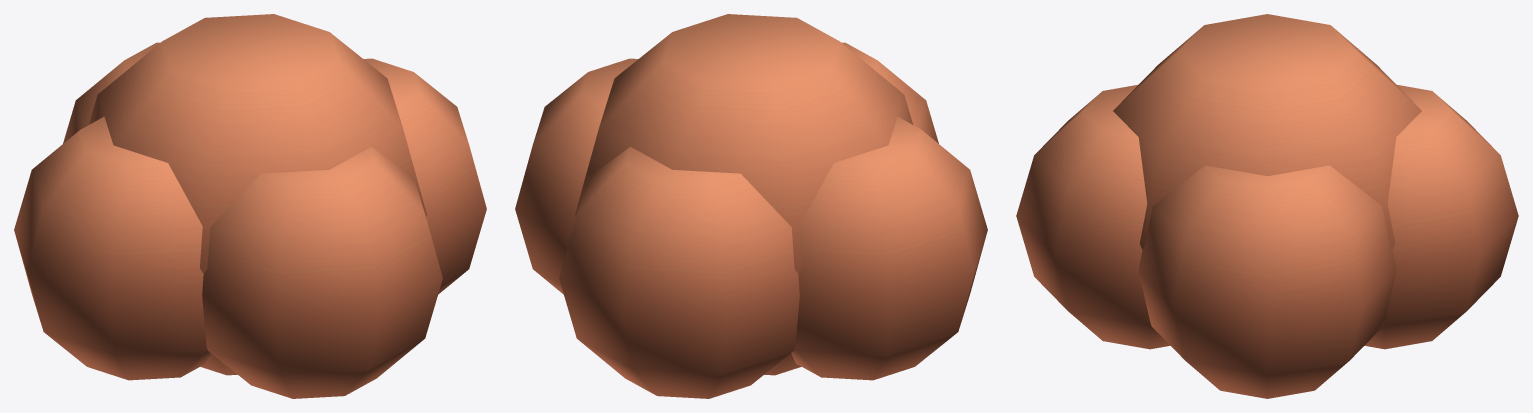
The model's file is smoke.glb.
The picture shows the model from 3 angles, left to right: view 1: azimuth 30°, elevation 25°; view 2: azimuth 150°, elevation 25°; view 3: azimuth 270°, elevation 25°; orthographic projection. The views are drawn at different scales.
Parts seen in each view (by area): view 1: smoke; view 2: smoke; view 3: smoke.
Part boxes in pixels (x1,y1,x2,y2): smoke: [14, 14, 486, 398]; smoke: [515, 14, 987, 398]; smoke: [1016, 14, 1518, 398].
Bounding box in the file's own units: 0.277 × 0.1704 × 0.277.
1 material, 1 textured.
